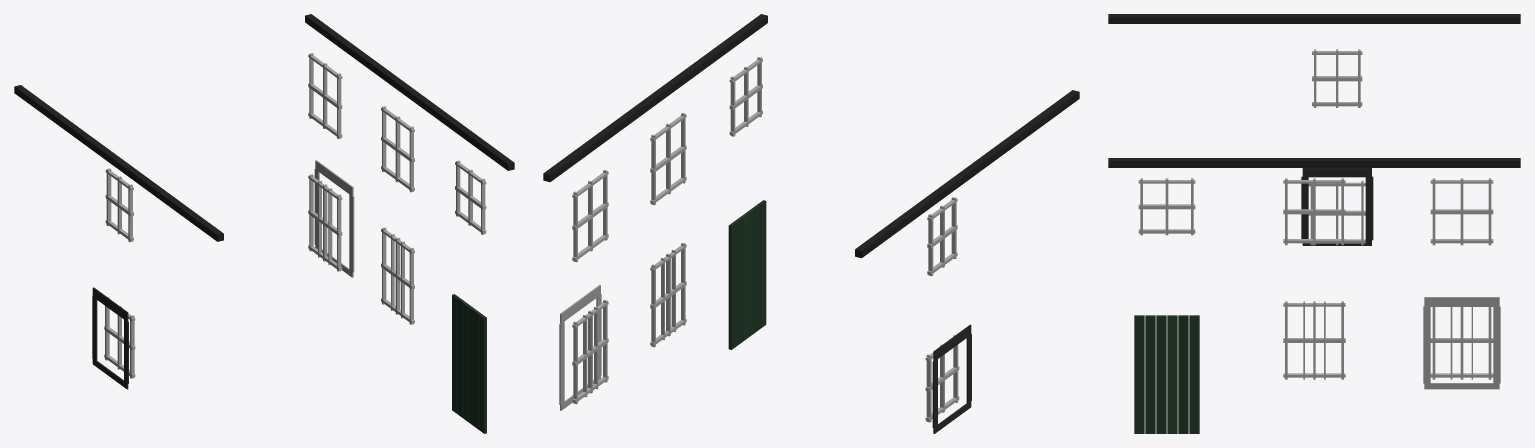
File: SM_Bld_081_Wood.glb
3 renders of one model, left to right at view 1: azimuth 30°, elevation 25°; view 2: azimuth 150°, elevation 25°; view 3: azimuth 270°, elevation 25°, orthographic. The views are drawn at different scales.
Visible parts, largest first — view 1: SM_Bld_081_Wood; view 2: SM_Bld_081_Wood; view 3: SM_Bld_081_Wood.
Boxes of the visible parts, x1=… form: SM_Bld_081_Wood: x1=14, y1=14, x2=514, y2=433; SM_Bld_081_Wood: x1=543, y1=14, x2=1079, y2=433; SM_Bld_081_Wood: x1=1108, y1=14, x2=1520, y2=433.
Size of the model in its own units: 5.51 by 4.9 by 6.53.
